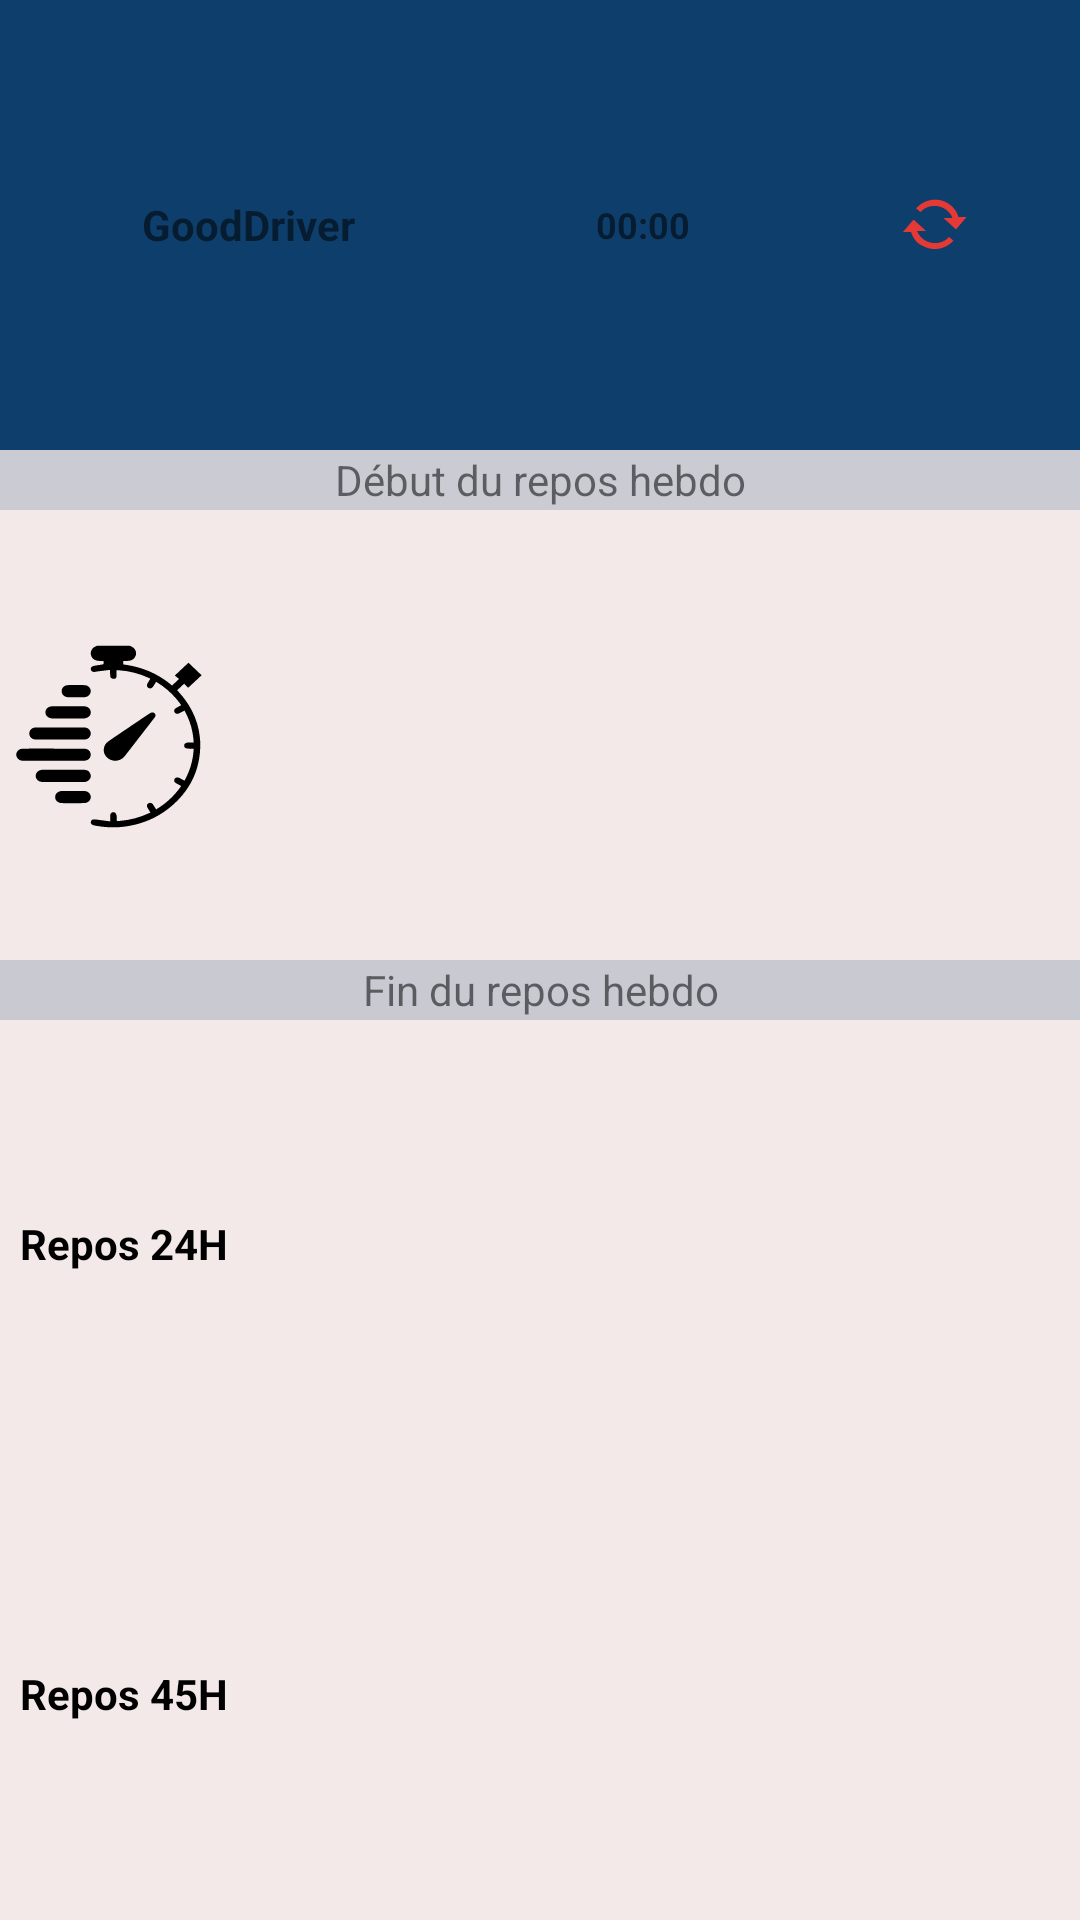

Where icons sit on this 1080w x 1920h app screen, as (x1, y1, x2, y2):
sync: (903, 199, 967, 249)
